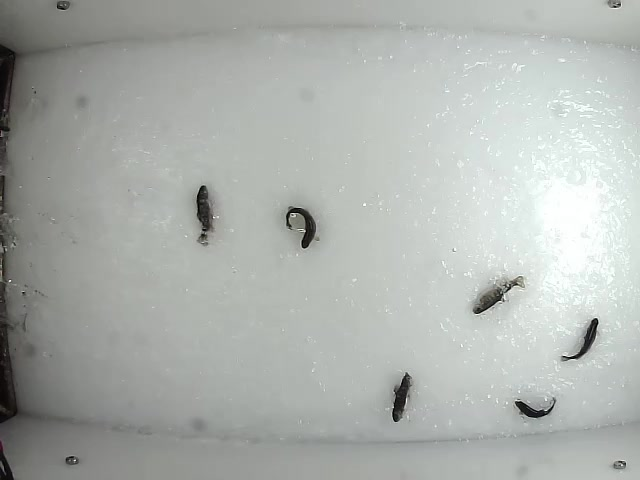fish: (470, 276, 527, 316), (559, 317, 599, 362), (285, 204, 321, 251), (192, 183, 217, 247), (390, 371, 413, 423), (512, 394, 557, 419)
